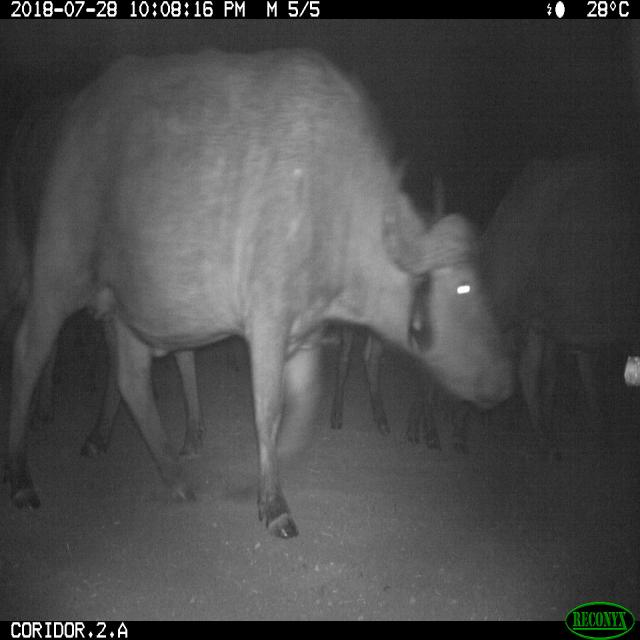buffalo: (6, 107, 490, 516)
